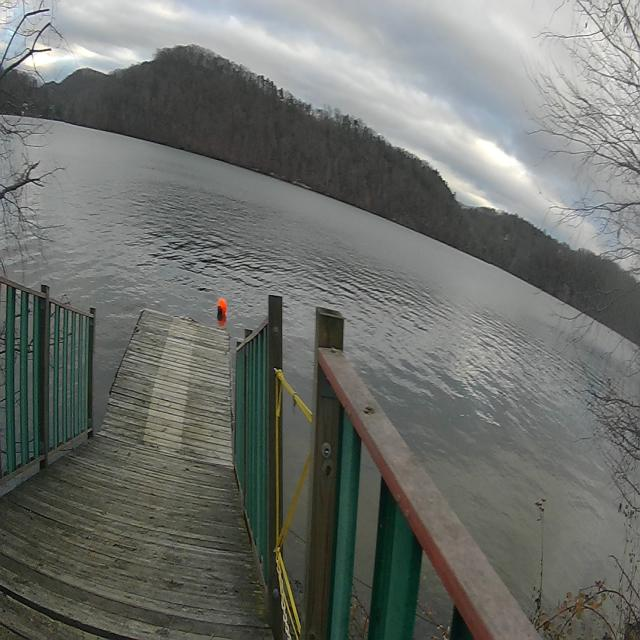Buoy: (216, 291, 228, 326)
